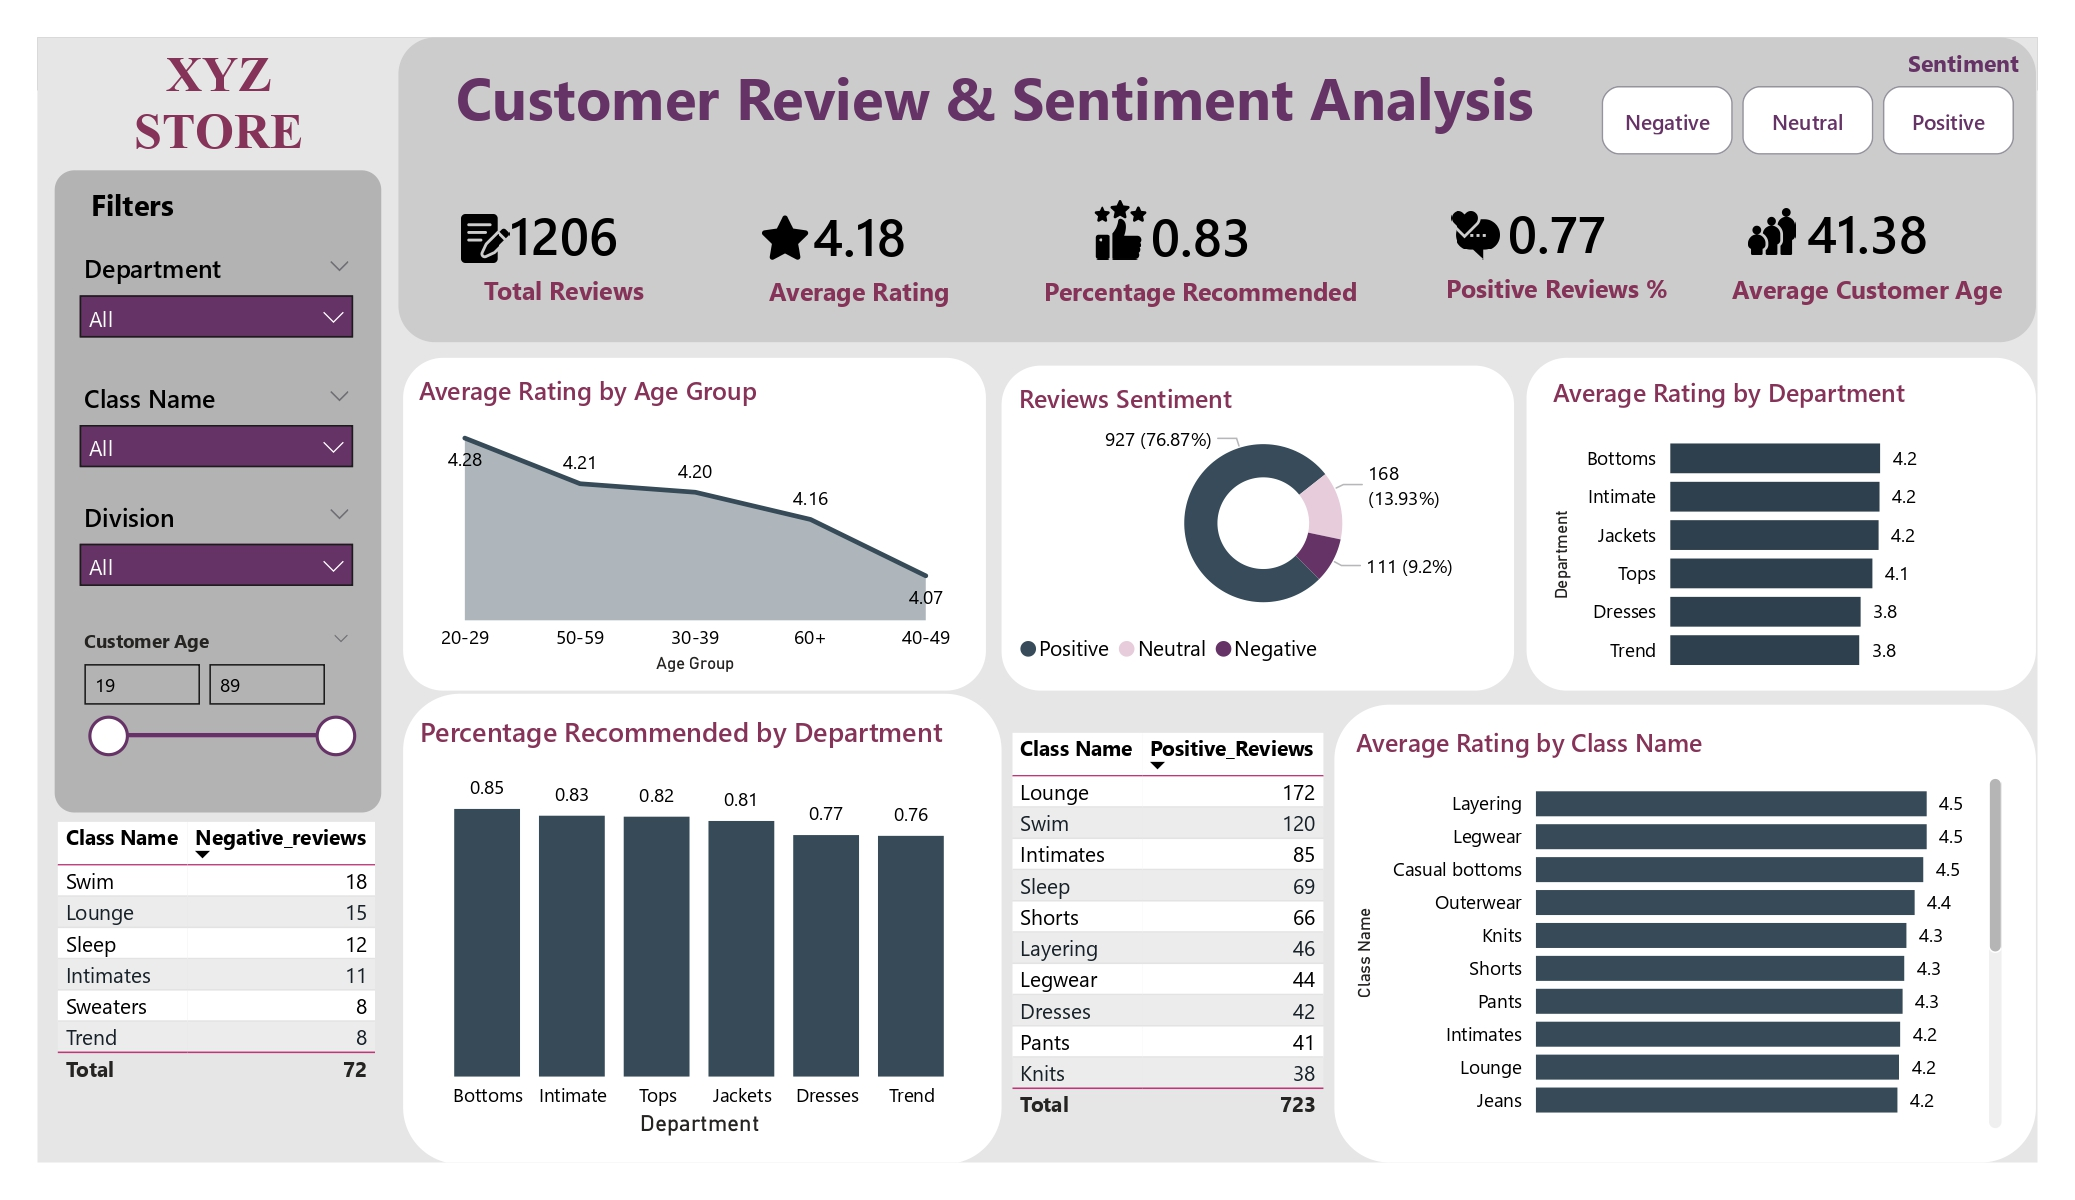

Layout of this report page (visuals, bound fields, positions):
{"tool":"powerbi","page":{"name":"Page 1","canvas":[1280,720],"ordinal":0},"visuals":[{"type":"shape","box":[234,205.5,373.4,212.2],"z":0},{"type":"lineChart","title":"Average Rating by Age Group","fields":{"Category":["Fact_Reviews.Age Group"],"Y":["Fact_Reviews.Average_Rating"]},"box":[239.5,215.1,363.4,195.4],"z":1000},{"type":"shape","box":[231.2,0,1047.4,195.4],"z":2000},{"type":"shape","box":[616.9,209.5,328.4,208.3],"z":3000},{"type":"shape","box":[952.6,205,326.5,212.8],"z":4000},{"type":"shape","box":[234.1,419.6,383.1,301],"z":5000},{"type":"shape","box":[829.7,426.9,449.7,293.1],"z":6000},{"type":"card","fields":{"Values":["Fact_Reviews.Total_Reviews"]},"box":[263.3,90.8,147.3,92.2],"z":12000},{"type":"card","fields":{"Values":["Fact_Reviews.Average_Rating"]},"box":[457.3,89.5,137.6,96.3],"z":13000},{"type":"card","fields":{"Values":["Fact_Reviews.Percentage_Recommended"]},"box":[635.6,89.7,217.4,95.8],"z":14000},{"type":"card","fields":{"Values":["Fact_Reviews.Positive_percentage"]},"box":[894.6,89.5,155.5,92.2],"z":15000},{"type":"clusteredBarChart","title":"Average Rating by Department","fields":{"Y":["Fact_Reviews.Average_Rating"],"Category":["Fact_Reviews.Department"]},"box":[964.9,216,314.5,200.7],"z":16000},{"type":"barChart","fields":{"Category":["Fact_Reviews.Class Name"],"Y":["Fact_Reviews.Average_Rating"]},"box":[839.1,440.3,422.9,262.3],"z":17000},{"type":"clusteredColumnChart","fields":{"Y":["Fact_Reviews.Percentage_Recommended"],"Category":["Fact_Reviews.Department"]},"box":[239.6,432.3,368,275.7],"z":18000},{"type":"donutChart","title":"Reviews Sentiment","fields":{"Category":["Fact_Reviews.Sentiment Simple"],"Y":["Fact_Reviews.Total_Reviews"]},"box":[623.3,220.1,322.3,190],"z":19000},{"type":"tableEx","fields":{"Values":["Fact_Reviews.Class Name","Fact_Reviews.Positive_Reviews"]},"box":[618,440.4,212,280.8],"z":20000},{"type":"tableEx","fields":{"Values":["Fact_Reviews.Class Name","Fact_Reviews.Negative_reviews"]},"box":[6.9,497.4,224.6,186],"z":21000},{"type":"shape","box":[10.6,85.1,209.8,410.5],"z":22000},{"type":"card","fields":{"Values":["Fact_Reviews.Average_Age"]},"box":[1077.3,89.7,187.4,92.3],"z":23000},{"type":"textbox","box":[0,0,231.5,88.3],"z":24000},{"type":"slicer","fields":{"Values":["Fact_Reviews.Division"]},"box":[16.5,290.7,195.7,70.3],"z":25000},{"type":"slicer","fields":{"Values":["Fact_Reviews.Class Name"]},"box":[16.5,214.9,195.7,73],"z":26000},{"type":"advancedSlicerVisual","title":"Sentiment","fields":{"Values":["Fact_Reviews.Sentiment Simple"]},"box":[996.5,5.5,276.6,74.3],"z":27000},{"type":"slicer","fields":{"Values":["Fact_Reviews.Department"]},"box":[16.5,132.3,195.7,81.3],"z":28000},{"type":"slicer","fields":{"Values":["Fact_Reviews.Customer Age"]},"box":[16.5,373.4,195.7,103.3],"z":29000},{"type":"textbox","box":[28.9,89.5,71.6,35.8],"z":30000},{"type":"image","box":[1090.1,103.2,39.9,41.3],"z":31000},{"type":"image","box":[664.8,99.1,56.4,48.2],"z":32000},{"type":"image","box":[265.6,106,41.3,45.4],"z":33000},{"type":"image","box":[894.6,106,50.9,41.3],"z":34000},{"type":"image","box":[456.9,106,42.7,42.7],"z":35000},{"type":"textbox","box":[246.6,8.3,731.6,60.6],"z":36000}]}

Visuals, with their boxes in screenshot pixels (x1, y1, x2, y2):
shape: pyautogui.locateOnScreen(403, 359, 987, 690)
"Average Rating by Age Group" lineChart: pyautogui.locateOnScreen(412, 374, 980, 679)
shape: pyautogui.locateOnScreen(399, 38, 2035, 343)
shape: pyautogui.locateOnScreen(1001, 365, 1515, 690)
shape: pyautogui.locateOnScreen(1526, 358, 2036, 690)
shape: pyautogui.locateOnScreen(403, 693, 1002, 1162)
shape: pyautogui.locateOnScreen(1334, 705, 2037, 1162)
card - Fact_Reviews.Total_Reviews: pyautogui.locateOnScreen(449, 179, 679, 323)
card - Fact_Reviews.Average_Rating: pyautogui.locateOnScreen(752, 177, 967, 328)
card - Fact_Reviews.Percentage_Recommended: pyautogui.locateOnScreen(1031, 178, 1370, 327)
card - Fact_Reviews.Positive_percentage: pyautogui.locateOnScreen(1435, 177, 1678, 321)
"Average Rating by Department" clusteredBarChart: pyautogui.locateOnScreen(1545, 375, 2037, 689)
barChart - Fact_Reviews.Class Name x Fact_Reviews.Average_Rating: pyautogui.locateOnScreen(1349, 725, 2009, 1135)
clusteredColumnChart - Fact_Reviews.Percentage_Recommended x Fact_Reviews.Department: pyautogui.locateOnScreen(412, 713, 987, 1144)
"Reviews Sentiment" donutChart: pyautogui.locateOnScreen(1011, 381, 1515, 678)
tableEx - Fact_Reviews.Class Name x Fact_Reviews.Positive_Reviews: pyautogui.locateOnScreen(1003, 726, 1334, 1162)
tableEx - Fact_Reviews.Class Name x Fact_Reviews.Negative_reviews: pyautogui.locateOnScreen(48, 815, 399, 1105)
shape: pyautogui.locateOnScreen(54, 170, 382, 812)
card - Fact_Reviews.Average_Age: pyautogui.locateOnScreen(1721, 178, 2014, 322)
textbox: pyautogui.locateOnScreen(38, 38, 399, 175)
slicer - Fact_Reviews.Division: pyautogui.locateOnScreen(63, 492, 369, 602)
slicer - Fact_Reviews.Class Name: pyautogui.locateOnScreen(63, 373, 369, 487)
"Sentiment" advancedSlicerVisual: pyautogui.locateOnScreen(1595, 46, 2027, 162)
slicer - Fact_Reviews.Department: pyautogui.locateOnScreen(63, 244, 369, 371)
slicer - Fact_Reviews.Customer Age: pyautogui.locateOnScreen(63, 621, 369, 782)
textbox: pyautogui.locateOnScreen(83, 177, 195, 233)
image: pyautogui.locateOnScreen(1741, 199, 1803, 263)
image: pyautogui.locateOnScreen(1076, 192, 1164, 268)
image: pyautogui.locateOnScreen(453, 203, 517, 274)
image: pyautogui.locateOnScreen(1435, 203, 1515, 268)
image: pyautogui.locateOnScreen(751, 203, 818, 270)
textbox: pyautogui.locateOnScreen(423, 50, 1566, 145)
